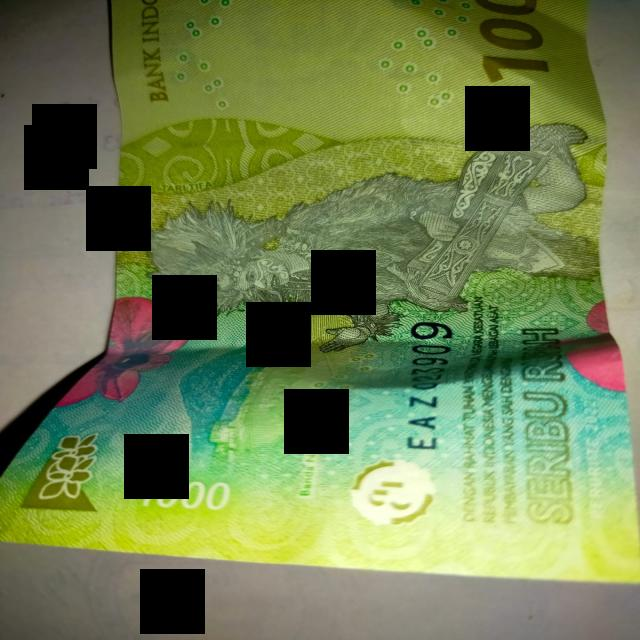seribu rupiah: (3, 0, 637, 581)
